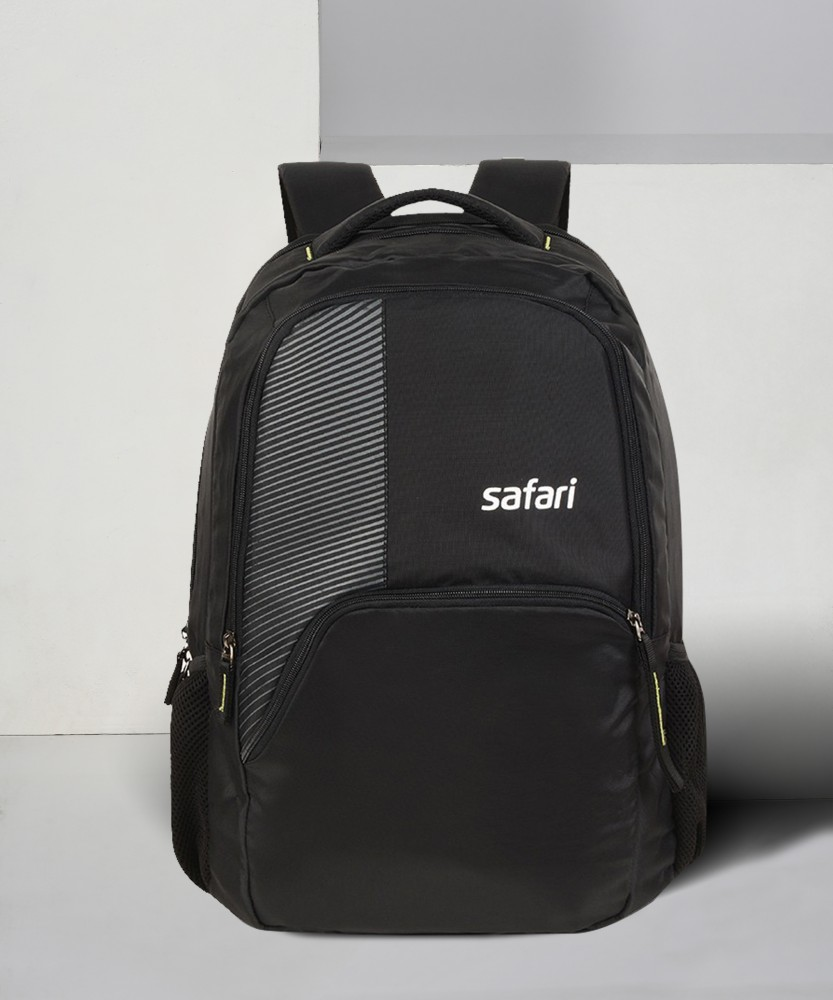backpack: (165, 159, 709, 936)
